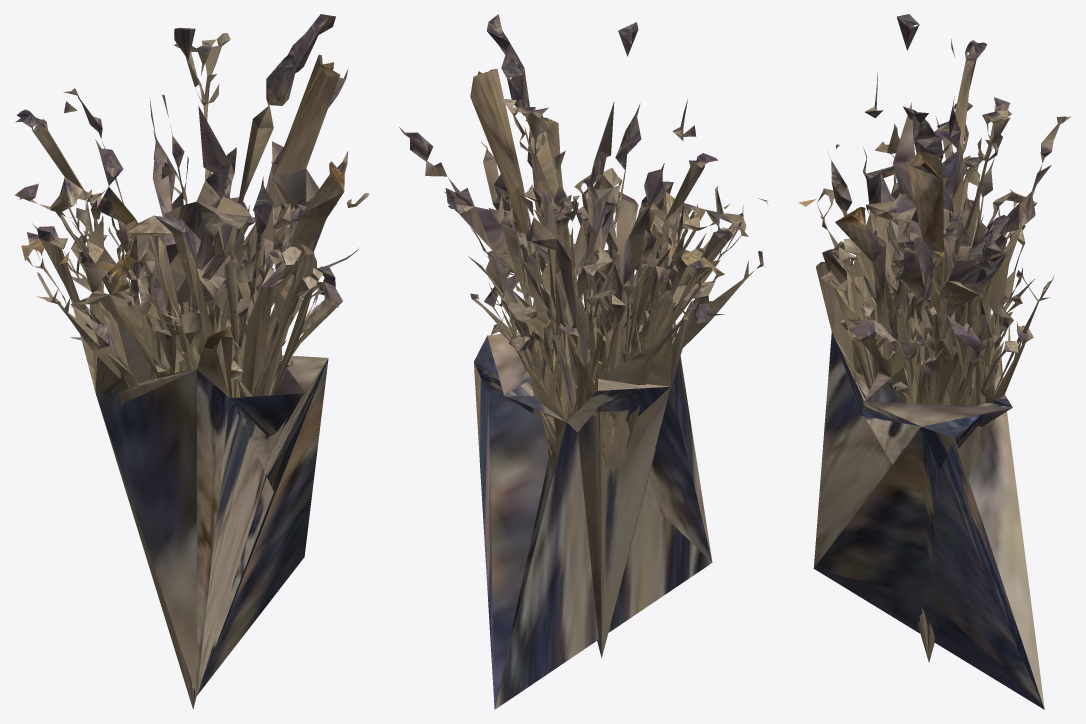
Rendered from k_vase_flowers.glb.
The picture shows the model from 3 angles, left to right: view 1: azimuth 30°, elevation 25°; view 2: azimuth 150°, elevation 25°; view 3: azimuth 270°, elevation 25°; orthographic projection. The views are drawn at different scales.
Visible parts, largest first — view 1: k_vase_flowers; view 2: k_vase_flowers; view 3: k_vase_flowers.
Boxes of the visible parts, left/top/right/bottom form: k_vase_flowers: left=14, top=14, right=369, bottom=709; k_vase_flowers: left=399, top=14, right=768, bottom=709; k_vase_flowers: left=798, top=14, right=1070, bottom=709.
Size of the model in its own units: 0.2096 by 0.4 by 0.1503.
Materials: 1 (1 with a texture image).
